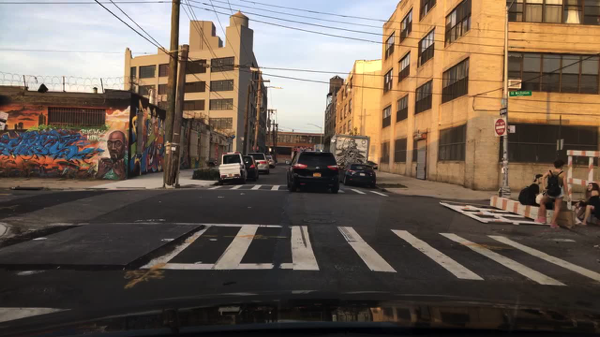car: (285, 150, 340, 195), (340, 162, 376, 190), (241, 155, 259, 181), (250, 153, 271, 175), (264, 155, 276, 168)
person: (534, 160, 566, 228), (571, 183, 599, 225), (517, 175, 544, 206)
traffic sign: (0, 1, 599, 337), (492, 118, 507, 138), (0, 110, 9, 132), (508, 89, 532, 96), (555, 139, 564, 150), (505, 125, 514, 135), (251, 144, 258, 151), (499, 108, 505, 115)
truck: (328, 132, 368, 164), (220, 153, 248, 184)
